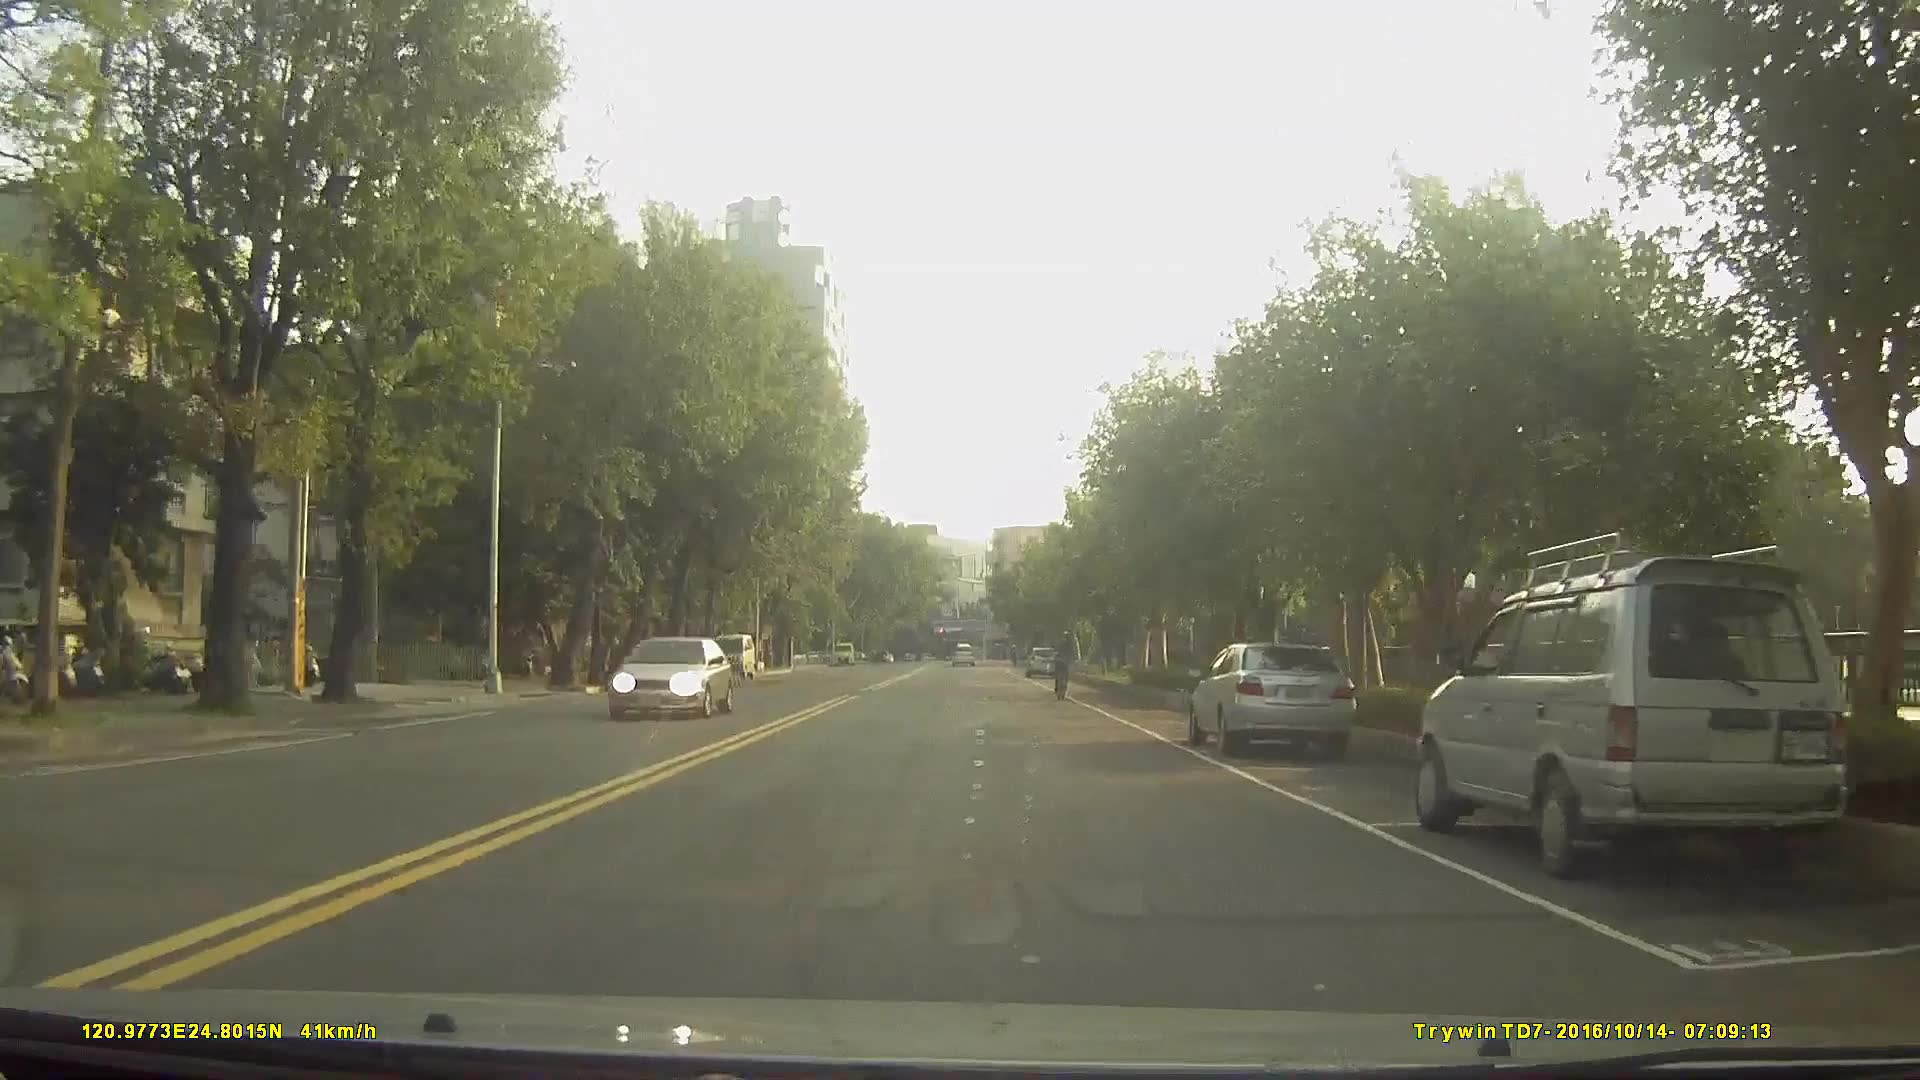rider: (1053, 620, 1078, 702)
vehicle: (1412, 552, 1850, 878), (1187, 635, 1357, 750), (606, 635, 735, 720), (622, 637, 686, 686), (706, 629, 756, 678), (1023, 641, 1060, 678), (948, 637, 976, 666)
